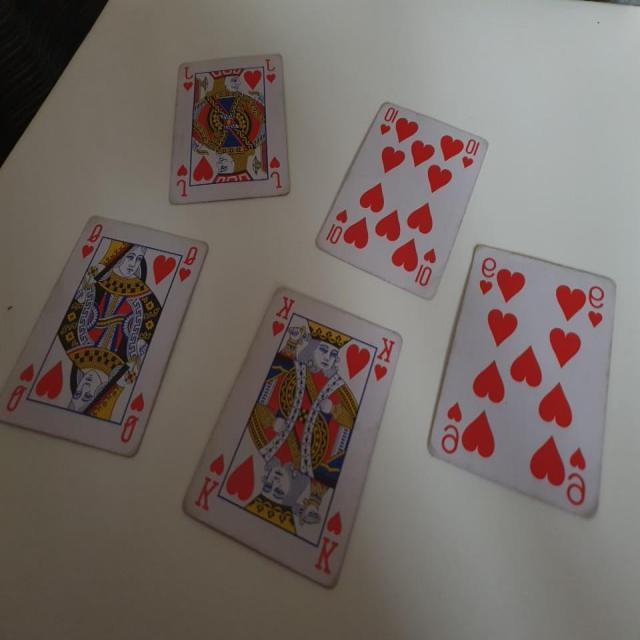10 of hearts: (314, 90, 490, 302)
9 of hearts: (426, 242, 625, 540)
jack of hearts: (164, 38, 299, 217)
king of hearts: (178, 284, 404, 598)
queen of hearts: (0, 215, 208, 454)
